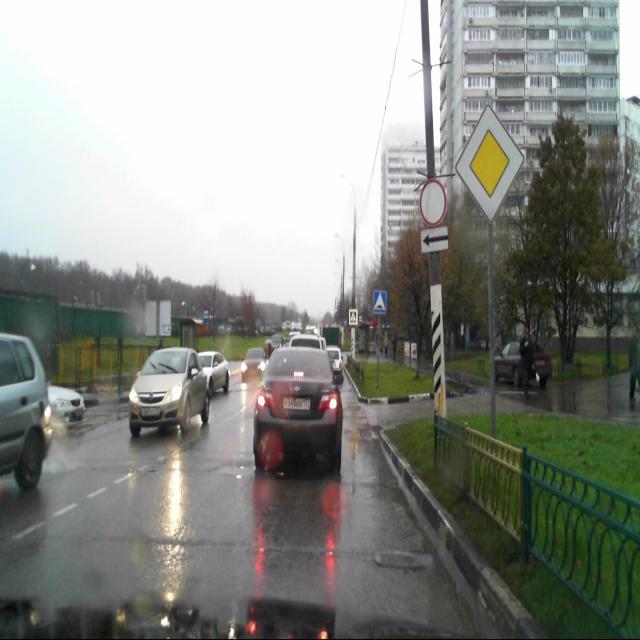road sign: (456, 106, 524, 223), (420, 226, 448, 253), (373, 291, 386, 313), (349, 309, 358, 324)
